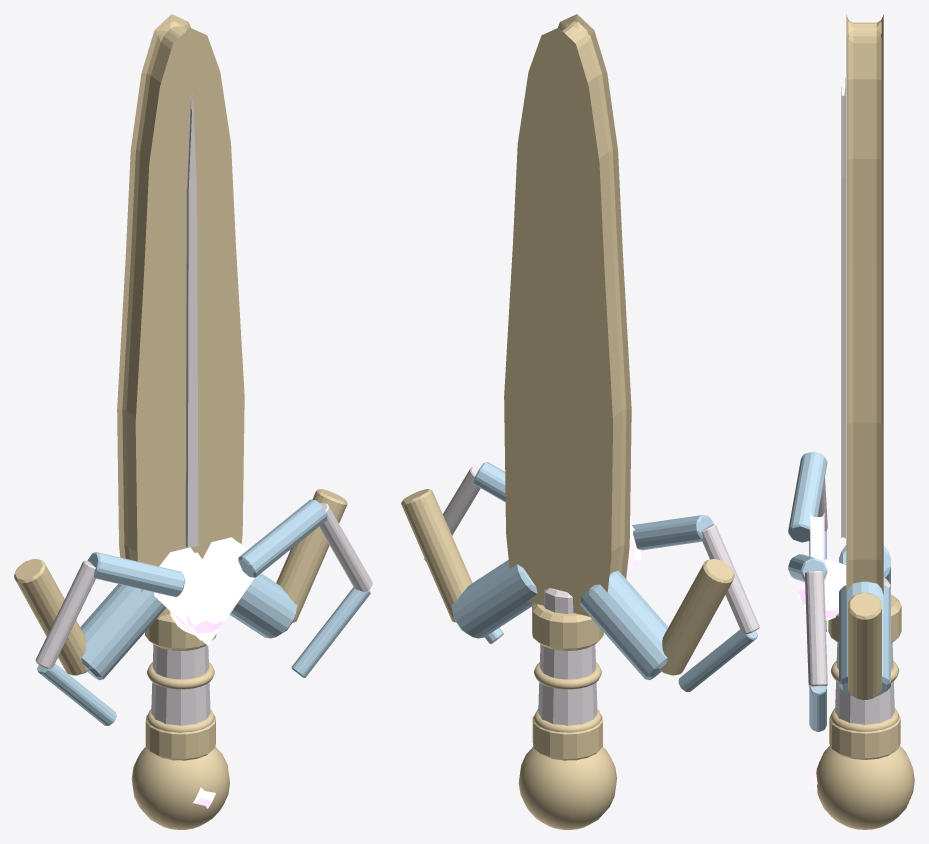
The model's file is dual-pair-06-angel-heart.glb.
3 views of the same model, side by side, from view 1: azimuth 30°, elevation 25°; view 2: azimuth 150°, elevation 25°; view 3: azimuth 270°, elevation 25° (orthographic).
Parts seen in each view (by area): view 1: dual-pair-06-angel-heart_ForgedBlade.001, dual-pair-06-angel-heart_Pommel.001, dual-pair-06-angel-heart_ColoredFuller.001, dual-pair-06-angel-heart_Guard_Left.001, dual-pair-06-angel-heart_HeartGuardGem.001, dual-pair-06-angel-heart_LeatherGrip.001, dual-pair-06-angel-heart_Guard_LeftTip.001, dual-pair-06-angel-heart_Guard_RightTip.001, dual-pair-06-angel-heart_Guard_Right.001, dual-pair-06-angel-heart_RibbonLoop_1.001, dual-pair-06-angel-heart_RibbonLoop_-1.001, dual-pair-06-angel-heart_RibbonTail_-1_A.001 (+7 smaller); view 2: dual-pair-06-angel-heart_ForgedBlade.001, dual-pair-06-angel-heart_Pommel.001, dual-pair-06-angel-heart_Guard_Left.001, dual-pair-06-angel-heart_LeatherGrip.001, dual-pair-06-angel-heart_Guard_Right.001, dual-pair-06-angel-heart_Guard_LeftTip.001, dual-pair-06-angel-heart_Guard_RightTip.001, dual-pair-06-angel-heart_UpperFerrule.001, dual-pair-06-angel-heart_LowerFerrule.001, dual-pair-06-angel-heart_RibbonLoop_-1.001, dual-pair-06-angel-heart_RibbonTail_-1_A.001, dual-pair-06-angel-heart_RibbonTail_-1_B.001 (+3 smaller); view 3: dual-pair-06-angel-heart_ForgedBlade.001, dual-pair-06-angel-heart_Pommel.001, dual-pair-06-angel-heart_Guard_RightTip.001, dual-pair-06-angel-heart_Guard_Right.001, dual-pair-06-angel-heart_RibbonTail_1_A.001, dual-pair-06-angel-heart_RibbonLoop_-1.001, dual-pair-06-angel-heart_ColoredFuller.001, dual-pair-06-angel-heart_LowerFerrule.001, dual-pair-06-angel-heart_LeatherGrip.001, dual-pair-06-angel-heart_GuardGem.001, dual-pair-06-angel-heart_RibbonTail_1_B.001, dual-pair-06-angel-heart_RibbonLoop_1.001 (+5 smaller).
Boxes of the visible parts, x1=… form: dual-pair-06-angel-heart_ForgedBlade.001: x1=117, y1=14, x2=244, y2=616; dual-pair-06-angel-heart_Pommel.001: x1=131, y1=747, x2=229, y2=829; dual-pair-06-angel-heart_ColoredFuller.001: x1=185, y1=91, x2=198, y2=547; dual-pair-06-angel-heart_Guard_Left.001: x1=80, y1=584, x2=166, y2=680; dual-pair-06-angel-heart_HeartGuardGem.001: x1=154, y1=537, x2=254, y2=645; dual-pair-06-angel-heart_LeatherGrip.001: x1=151, y1=644, x2=210, y2=725; dual-pair-06-angel-heart_Guard_LeftTip.001: x1=14, y1=559, x2=88, y2=675; dual-pair-06-angel-heart_Guard_RightTip.001: x1=276, y1=489, x2=347, y2=622; dual-pair-06-angel-heart_Guard_Right.001: x1=229, y1=573, x2=297, y2=638; dual-pair-06-angel-heart_RibbonLoop_1.001: x1=238, y1=499, x2=327, y2=577; dual-pair-06-angel-heart_RibbonLoop_-1.001: x1=87, y1=552, x2=184, y2=596; dual-pair-06-angel-heart_RibbonTail_-1_A.001: x1=35, y1=560, x2=95, y2=668; dual-pair-06-angel-heart_ForgedBlade.001: x1=504, y1=14, x2=631, y2=616; dual-pair-06-angel-heart_Pommel.001: x1=518, y1=746, x2=616, y2=829; dual-pair-06-angel-heart_Guard_Left.001: x1=579, y1=570, x2=668, y2=680; dual-pair-06-angel-heart_LeatherGrip.001: x1=538, y1=588, x2=597, y2=725; dual-pair-06-angel-heart_Guard_Right.001: x1=451, y1=560, x2=537, y2=638; dual-pair-06-angel-heart_Guard_LeftTip.001: x1=660, y1=559, x2=734, y2=675; dual-pair-06-angel-heart_Guard_RightTip.001: x1=401, y1=489, x2=472, y2=622; dual-pair-06-angel-heart_UpperFerrule.001: x1=532, y1=603, x2=603, y2=650; dual-pair-06-angel-heart_LowerFerrule.001: x1=532, y1=715, x2=602, y2=760; dual-pair-06-angel-heart_RibbonLoop_-1.001: x1=631, y1=515, x2=713, y2=550; dual-pair-06-angel-heart_RibbonTail_-1_A.001: x1=701, y1=524, x2=759, y2=634; dual-pair-06-angel-heart_RibbonTail_-1_B.001: x1=678, y1=629, x2=757, y2=691; dual-pair-06-angel-heart_ForgedBlade.001: x1=846, y1=14, x2=883, y2=594; dual-pair-06-angel-heart_Pommel.001: x1=816, y1=745, x2=914, y2=829; dual-pair-06-angel-heart_Guard_RightTip.001: x1=848, y1=592, x2=881, y2=699; dual-pair-06-angel-heart_Guard_Right.001: x1=839, y1=581, x2=890, y2=695; dual-pair-06-angel-heart_RibbonTail_1_A.001: x1=805, y1=571, x2=827, y2=686; dual-pair-06-angel-heart_RibbonLoop_-1.001: x1=788, y1=451, x2=827, y2=542; dual-pair-06-angel-heart_ColoredFuller.001: x1=841, y1=78, x2=845, y2=538; dual-pair-06-angel-heart_LowerFerrule.001: x1=829, y1=714, x2=900, y2=759; dual-pair-06-angel-heart_LeatherGrip.001: x1=835, y1=577, x2=894, y2=724; dual-pair-06-angel-heart_GuardGem.001: x1=798, y1=559, x2=846, y2=620; dual-pair-06-angel-heart_RibbonTail_1_B.001: x1=809, y1=686, x2=826, y2=731; dual-pair-06-angel-heart_RibbonLoop_1.001: x1=788, y1=554, x2=827, y2=582.
Size of the model in its own units: 0.4301 by 0.9889 by 0.1399.
